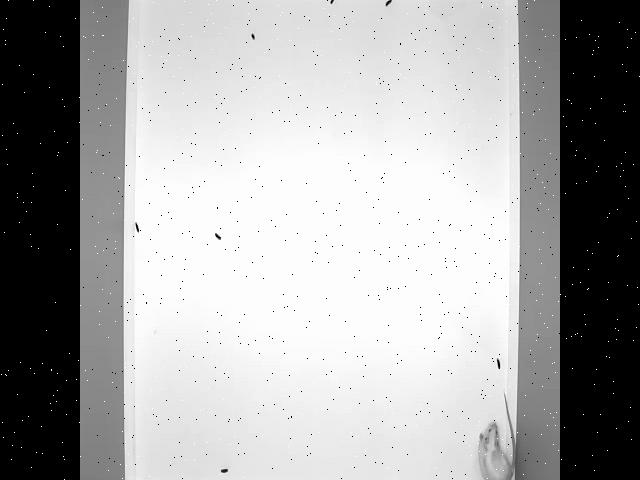Tikus: (476, 386, 514, 480)
